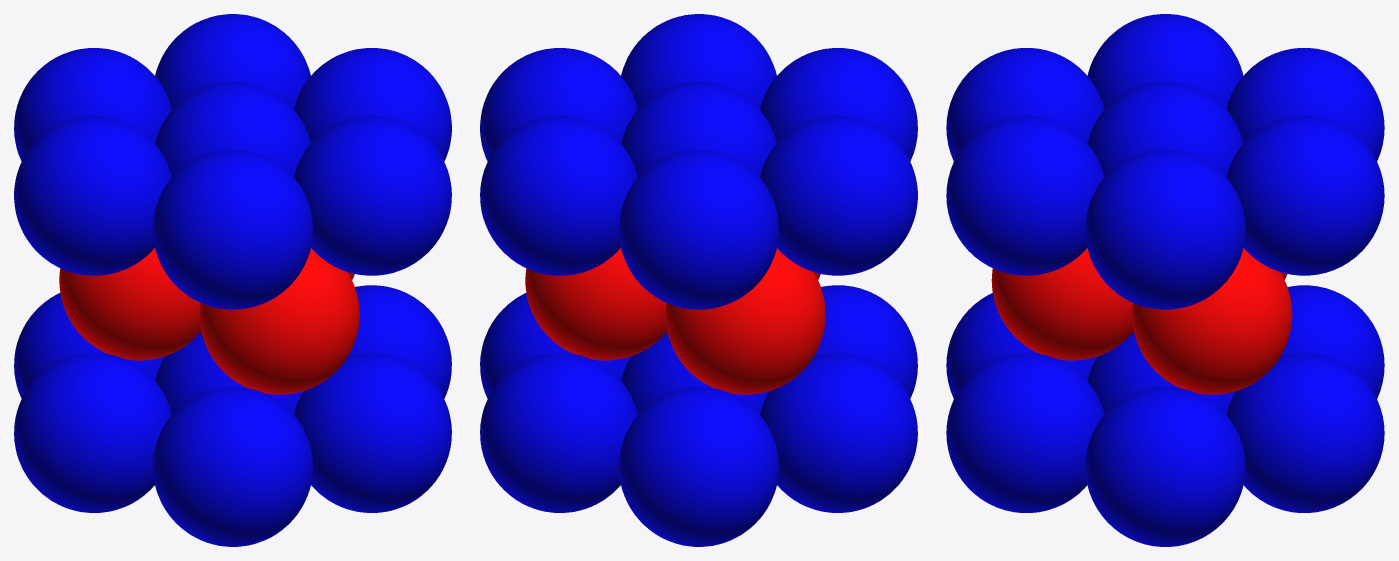
File: hcp.gltf
3 views of the same model, side by side, from view 1: azimuth 30°, elevation 25°; view 2: azimuth 150°, elevation 25°; view 3: azimuth 270°, elevation 25° (orthographic).
Parts seen in each view (by area): view 1: Part 15, Part 5, Part 13, Part 17, Part 2, Part 7, Part 10, Part 8, Part 12, Part 14, Part 11, Part 16 (+3 smaller); view 2: Part 14, Part 4, Part 13, Part 16, Part 6, Part 2, Part 8, Part 9, Part 12, Part 15, Part 11, Part 17 (+3 smaller); view 3: Part 12, Part 3, Part 16, Part 17, Part 7, Part 6, Part 9, Part 10, Part 14, Part 15, Part 11, Part 13 (+3 smaller).
Boxes of the visible parts, left/top/right/bottom form: Part 15: left=153, top=149, right=312, bottom=309; Part 5: left=153, top=386, right=312, bottom=546; Part 13: left=14, top=115, right=171, bottom=275; Part 17: left=294, top=115, right=451, bottom=275; Part 2: left=14, top=353, right=171, bottom=512; Part 7: left=294, top=353, right=451, bottom=512; Part 10: left=199, top=248, right=359, bottom=394; Part 8: left=59, top=248, right=201, bottom=360; Part 12: left=294, top=48, right=451, bottom=161; Part 14: left=14, top=48, right=171, bottom=161; Part 11: left=155, top=81, right=310, bottom=177; Part 16: left=155, top=14, right=310, bottom=109; Part 14: left=619, top=149, right=778, bottom=309; Part 4: left=619, top=386, right=778, bottom=546; Part 13: left=760, top=115, right=917, bottom=275; Part 16: left=480, top=115, right=637, bottom=275; Part 6: left=480, top=353, right=637, bottom=512; Part 2: left=760, top=353, right=917, bottom=512; Part 8: left=665, top=248, right=825, bottom=394; Part 9: left=525, top=248, right=667, bottom=360; Part 12: left=480, top=48, right=637, bottom=161; Part 15: left=760, top=48, right=917, bottom=161; Part 11: left=621, top=81, right=776, bottom=177; Part 17: left=621, top=14, right=776, bottom=109; Part 12: left=1085, top=149, right=1245, bottom=309; Part 3: left=1085, top=387, right=1245, bottom=546; Part 16: left=1226, top=115, right=1384, bottom=275; Part 17: left=946, top=115, right=1104, bottom=275; Part 7: left=946, top=353, right=1104, bottom=512; Part 6: left=1226, top=353, right=1384, bottom=512; Part 9: left=1132, top=248, right=1292, bottom=394; Part 10: left=991, top=248, right=1133, bottom=360; Part 14: left=1226, top=48, right=1384, bottom=161; Part 15: left=946, top=48, right=1104, bottom=161; Part 11: left=1087, top=81, right=1243, bottom=176; Part 13: left=1087, top=14, right=1243, bottom=109.
Bounding box in the file's own units: 0.09 × 0.0789 × 0.082.
